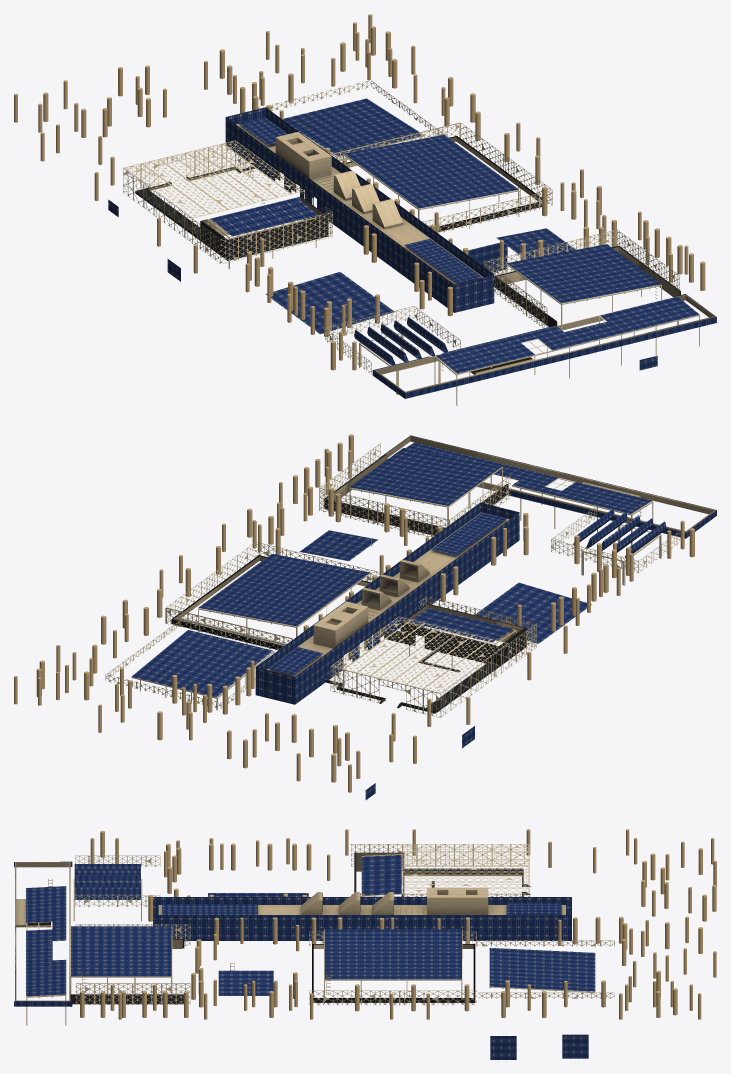
Rendered from EXPO_24_v4_optimized.gltf.
3 views of the same model, one above another, from view 1: azimuth 30°, elevation 25°; view 2: azimuth 150°, elevation 25°; view 3: azimuth 270°, elevation 25° (orthographic). The views are drawn at different scales.
Visible parts, largest first — view 1: ROOFS, SOLS_24, Exteriors:WC_2_Big_Cube_24, CLT_24, DOS_24, Exteriors:WC_8_Big_Cube_24, INS_24, Exteriors:WC_6_Big_Cube_24, Exteriors:WC_4_Big_Cube_24, Exteriors:WC_5_Cube_24, Exteriors:WC_8_Small_Cube_24; view 2: ROOFS, SOLS_24, Exteriors:WC_2_Big_Cube_24, DOS_24, CLT_24, INS_24, Exteriors:WC_8_Big_Cube_24, Exteriors:WC_6_Big_Cube_24, Exteriors:WC_4_Big_Cube_24, Exteriors:WC_8_Small_Cube_24, Exteriors:WC_5_Cube_24; view 3: ROOFS, SOLS_24, Exteriors:WC_2_Big_Cube_24, CLT_24, DOS_24, Exteriors:WC_8_Big_Cube_24, INS_24, Exteriors:WC_6_Big_Cube_24, Exteriors:WC_4_Big_Cube_24, Exteriors:WC_8_Small_Cube_24, Exteriors:WC_6_Small_Cube_24.
Boxes of the visible parts, bbox=[...] form: ROOFS: bbox=[108, 98, 699, 373]; SOLS_24: bbox=[225, 107, 716, 398]; Exteriors:WC_2_Big_Cube_24: bbox=[123, 140, 332, 263]; CLT_24: bbox=[184, 123, 534, 374]; DOS_24: bbox=[135, 136, 680, 326]; Exteriors:WC_8_Big_Cube_24: bbox=[258, 80, 552, 232]; INS_24: bbox=[147, 137, 715, 392]; Exteriors:WC_6_Big_Cube_24: bbox=[484, 229, 679, 327]; Exteriors:WC_4_Big_Cube_24: bbox=[325, 306, 460, 374]; Exteriors:WC_5_Cube_24: bbox=[434, 314, 699, 405]; Exteriors:WC_8_Small_Cube_24: bbox=[304, 135, 519, 229]; ROOFS: bbox=[131, 442, 651, 799]; SOLS_24: bbox=[255, 435, 716, 704]; Exteriors:WC_2_Big_Cube_24: bbox=[330, 596, 536, 717]; DOS_24: bbox=[171, 454, 526, 713]; CLT_24: bbox=[266, 482, 640, 705]; INS_24: bbox=[175, 435, 715, 707]; Exteriors:WC_8_Big_Cube_24: bbox=[105, 542, 383, 708]; Exteriors:WC_6_Big_Cube_24: bbox=[319, 443, 510, 537]; Exteriors:WC_4_Big_Cube_24: bbox=[551, 506, 680, 573]; Exteriors:WC_8_Small_Cube_24: bbox=[131, 572, 371, 710]; Exteriors:WC_5_Cube_24: bbox=[469, 474, 653, 545]; ROOFS: bbox=[26, 855, 595, 1059]; SOLS_24: bbox=[14, 861, 571, 1006]; Exteriors:WC_2_Big_Cube_24: bbox=[351, 844, 529, 896]; CLT_24: bbox=[16, 884, 565, 927]; DOS_24: bbox=[70, 852, 530, 1004]; Exteriors:WC_8_Big_Cube_24: bbox=[309, 931, 614, 1005]; INS_24: bbox=[15, 853, 521, 1001]; Exteriors:WC_6_Big_Cube_24: bbox=[75, 924, 190, 1004]; Exteriors:WC_4_Big_Cube_24: bbox=[75, 855, 160, 906]; Exteriors:WC_8_Small_Cube_24: bbox=[324, 929, 594, 1003]; Exteriors:WC_6_Small_Cube_24: bbox=[70, 926, 172, 994].
Size of the model in its own units: 13.35 by 3.83 by 23.95.
15 materials, 14 textured.
